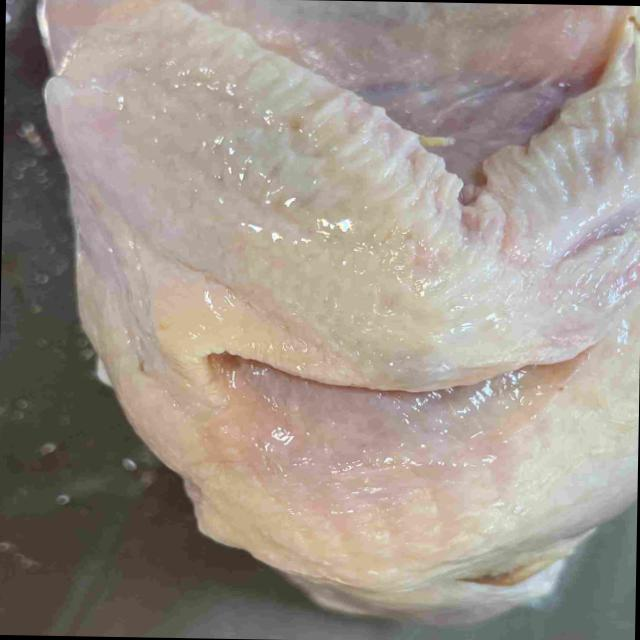wing: (47, 0, 640, 392)
